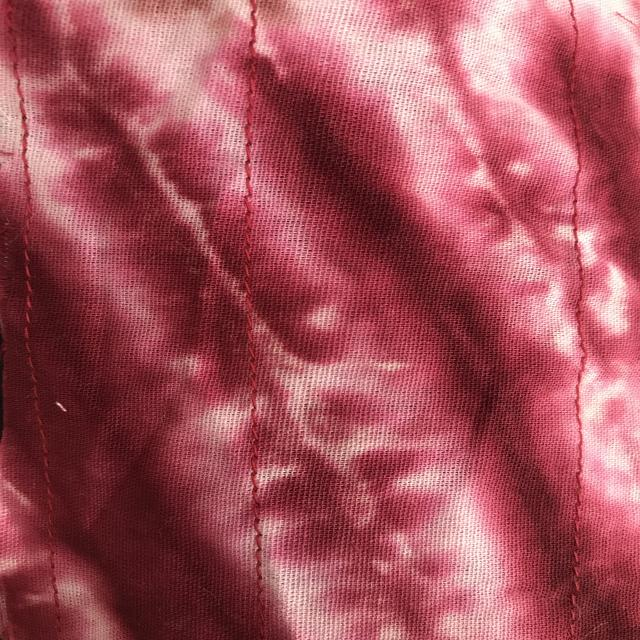good: (237, 518, 281, 586), (243, 386, 274, 471), (35, 456, 64, 520)
